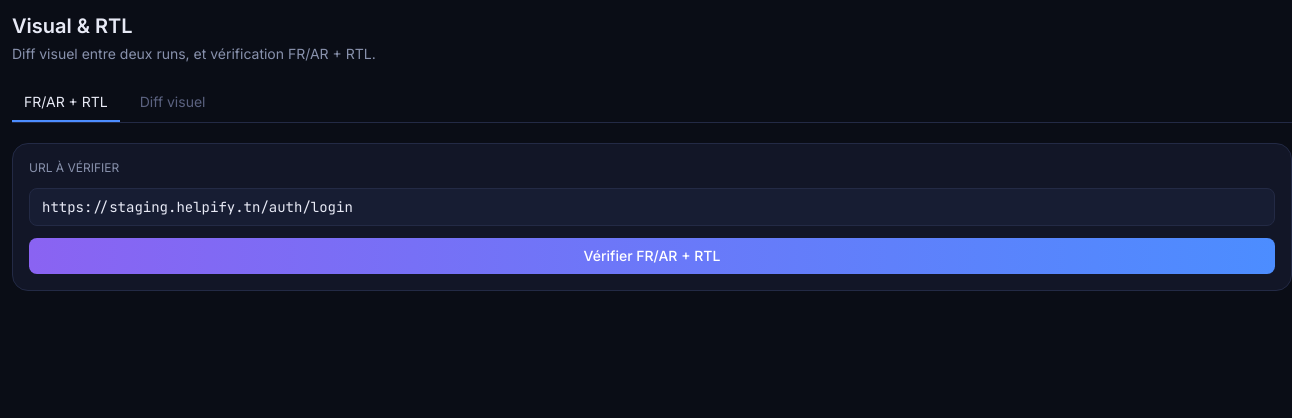
Scenario: Visual/RTL : onglet diff visuel › erreur de comparaison
Step 1. Click the button "Diff visuel" → (173, 103), box left=128, top=84, right=218, bottom=122
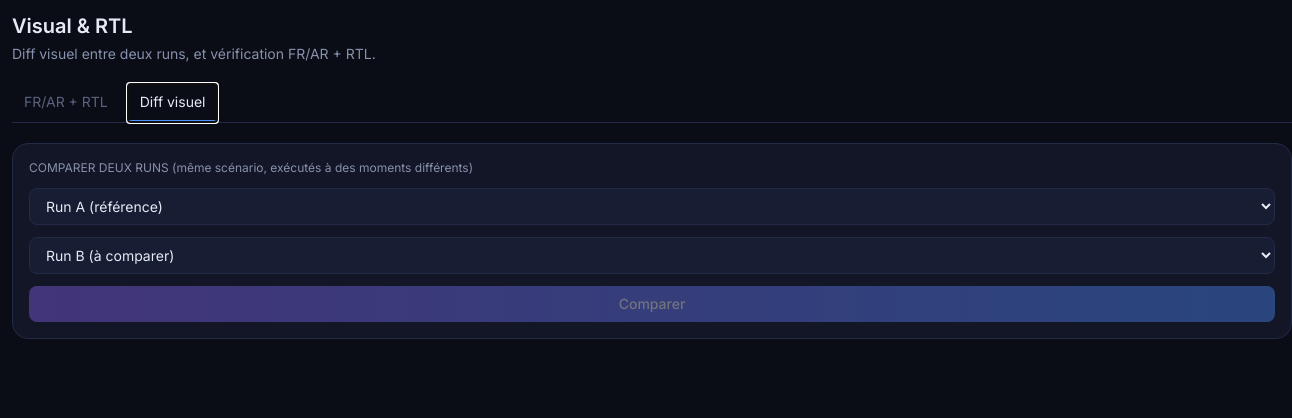
Step 2. Select "#1 — Connexion" in the 1st dropdown → (652, 206), box left=29, top=188, right=1275, bottom=225
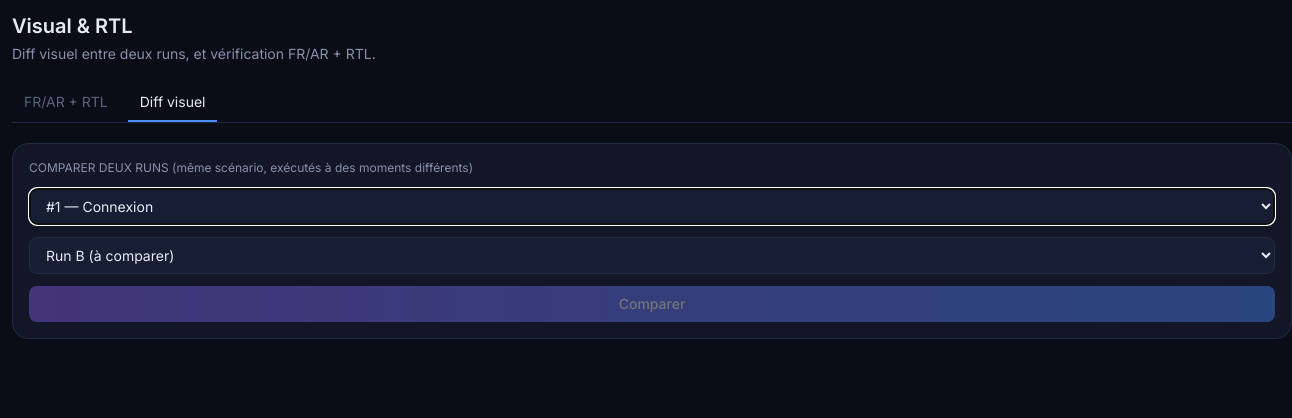
Step 3. Select "#2 — Connexion" in the 2nd dropdown → (652, 256), box left=29, top=237, right=1275, bottom=274
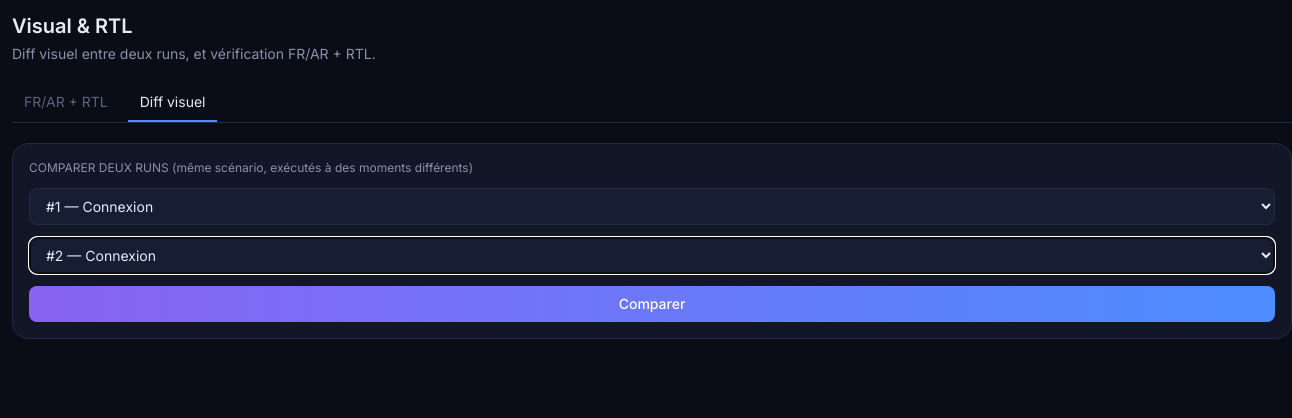
Step 4. Click the button "Comparer" → (652, 304), box left=29, top=286, right=1275, bottom=322
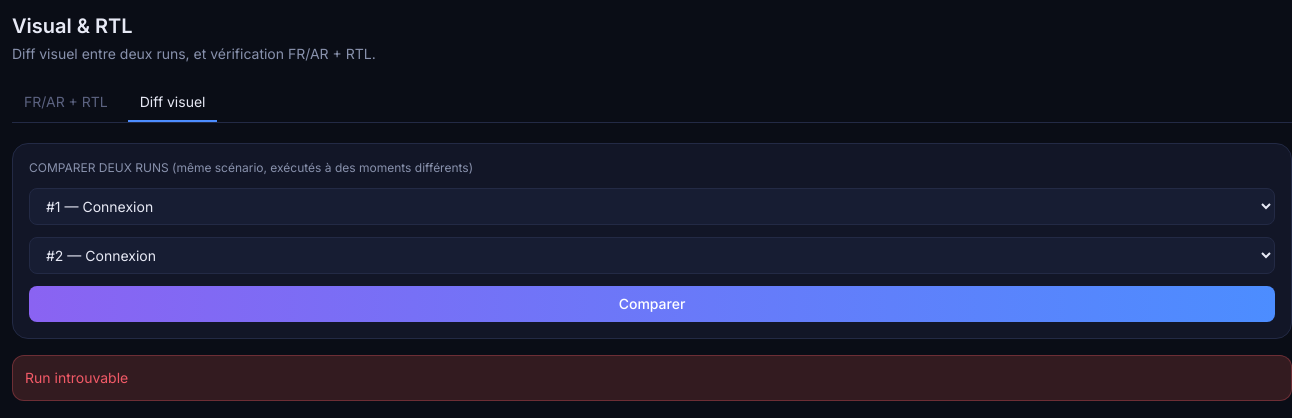
expect the text "Run introuvable" is shown: met, box left=12, top=355, right=1291, bottom=401
